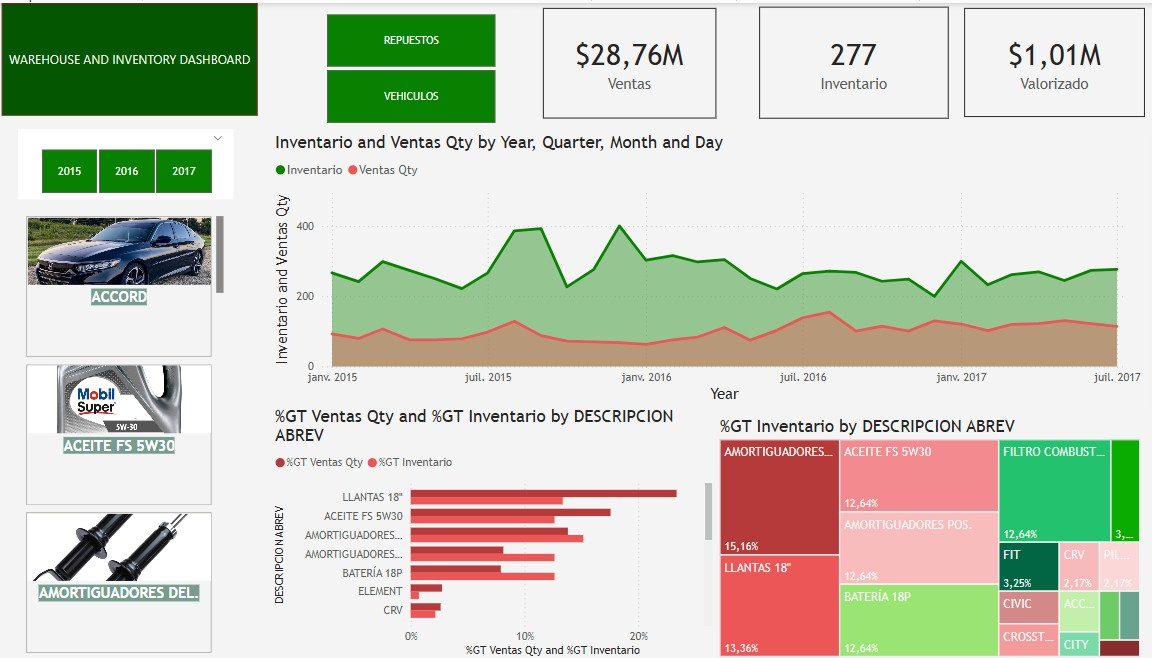

The page's visual inventory and layout, read from the dashboard file:
{"tool":"powerbi","page":{"name":"Page 1","canvas":[1280,720],"ordinal":0},"visuals":[{"type":"shape","box":[9.6,0,279.9,123.5],"z":0},{"type":"card","fields":{"Values":["_Measure.Valorizado"]},"box":[1062.6,5.7,197.7,119.5],"z":2000},{"type":"card","fields":{"Values":["_Measure.Inventario"]},"box":[838.4,4.1,207.2,122.1],"z":2001},{"type":"card","fields":{"Values":["_Measure.Ventas"]},"box":[602.4,5.5,189.4,120.8],"z":2002},{"type":"slicer","fields":{"Values":["DIM_Calendario.Year"]},"box":[27,138,236.1,76.8],"z":2004},{"type":"advancedSlicerVisual","fields":{"Values":["Dim_Productos.DESCRIPCION ABREV"]},"box":[31.3,229,226.2,490.8],"z":2005},{"type":"slicer","fields":{"Values":["Dim_Productos.TIPO"]},"box":[338.6,5.7,234.7,132.3],"z":2006},{"type":"areaChart","fields":{"Y":["_Measure.Inventario","_Measure.Ventas Qty"],"Category":["DIM_Calendario.Inicio de Mes.Variation.Date Hierarchy.Year","DIM_Calendario.Inicio de Mes.Variation.Date Hierarchy.Quarter","DIM_Calendario.Inicio de Mes.Variation.Date Hierarchy.Month","DIM_Calendario.Inicio de Mes.Variation.Date Hierarchy.Day"]},"box":[303,140.8,957.4,300.2],"z":2007},{"type":"treemap","fields":{"Values":["_Measure.Inventario"],"Group":["Dim_Productos.DESCRIPCION ABREV"]},"box":[790.9,450.9,469.4,268.9],"z":2008},{"type":"clusteredBarChart","fields":{"Y":["_Measure.Ventas Qty","_Measure.Inventario"],"Category":["Dim_Productos.DESCRIPCION ABREV"]},"box":[303,441,488,279],"z":2009}]}

Visuals, with their boxes in screenshot pixels (x1, y1, x2, y2), scaled from the page's 1280x720 canvas onto the 1152x658 screenshot:
shape: 9/0/261/113
card - _Measure.Valorizado: 956/5/1134/114
card - _Measure.Inventario: 755/4/941/115
card - _Measure.Ventas: 542/5/713/115
slicer - DIM_Calendario.Year: 24/126/237/196
advancedSlicerVisual - Dim_Productos.DESCRIPCION ABREV: 28/209/232/657
slicer - Dim_Productos.TIPO: 305/5/516/126
areaChart - _Measure.Inventario x _Measure.Ventas Qty: 273/129/1134/403
treemap - _Measure.Inventario x Dim_Productos.DESCRIPCION ABREV: 712/412/1134/657
clusteredBarChart - _Measure.Ventas Qty x _Measure.Inventario: 273/403/712/657
